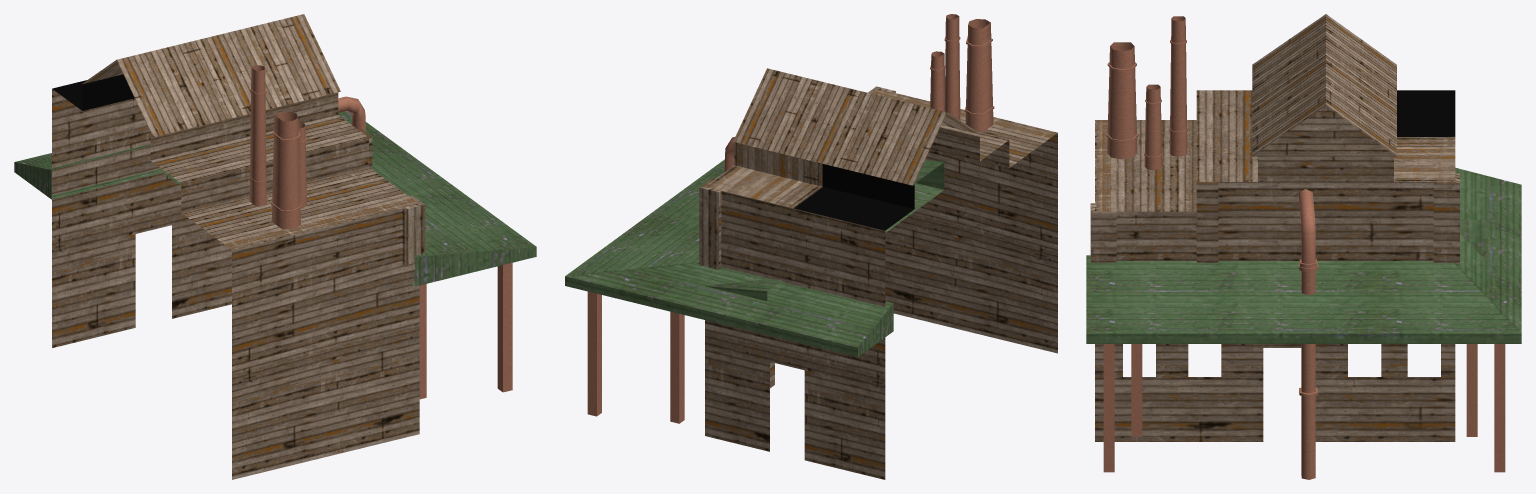
The model's file is generalStore_platformSM.fbx.
The picture shows the model from 3 angles, left to right: view 1: azimuth 30°, elevation 25°; view 2: azimuth 150°, elevation 25°; view 3: azimuth 270°, elevation 25°; orthographic projection. The views are drawn at different scales.
Visible parts, largest first — view 1: general_store, polySurface3, generalStore_platformLG, PipeStacks, generalStore_platformSM1, GenStore_Stick_on; view 2: general_store, generalStore_platformLG, polySurface3, PipeStacks, generalStore_platformSM1; view 3: general_store, generalStore_platformLG, polySurface3, PipeStacks, GenStore_Stick_on, generalStore_platformSM1.
Part boxes in pixels (box(x1,y1,x2,y2)): general_store: box(52, 74, 425, 479); polySurface3: box(82, 14, 340, 137); generalStore_platformLG: box(14, 111, 536, 392); PipeStacks: box(249, 65, 307, 229); generalStore_platformSM1: box(163, 171, 426, 399); GenStore_Stick_on: box(338, 96, 365, 131); general_store: box(699, 86, 1057, 479); generalStore_platformLG: box(565, 159, 893, 416); polySurface3: box(733, 68, 981, 185); PipeStacks: box(930, 14, 994, 131); generalStore_platformSM1: box(670, 160, 944, 423); general_store: box(1090, 90, 1459, 441); generalStore_platformLG: box(1086, 167, 1521, 472); polySurface3: box(1252, 14, 1396, 156); PipeStacks: box(1106, 16, 1187, 170); GenStore_Stick_on: box(1298, 189, 1318, 479); generalStore_platformSM1: box(1131, 220, 1487, 436).
Bounding box in the file's own units: 996 × 1175 × 1229.
